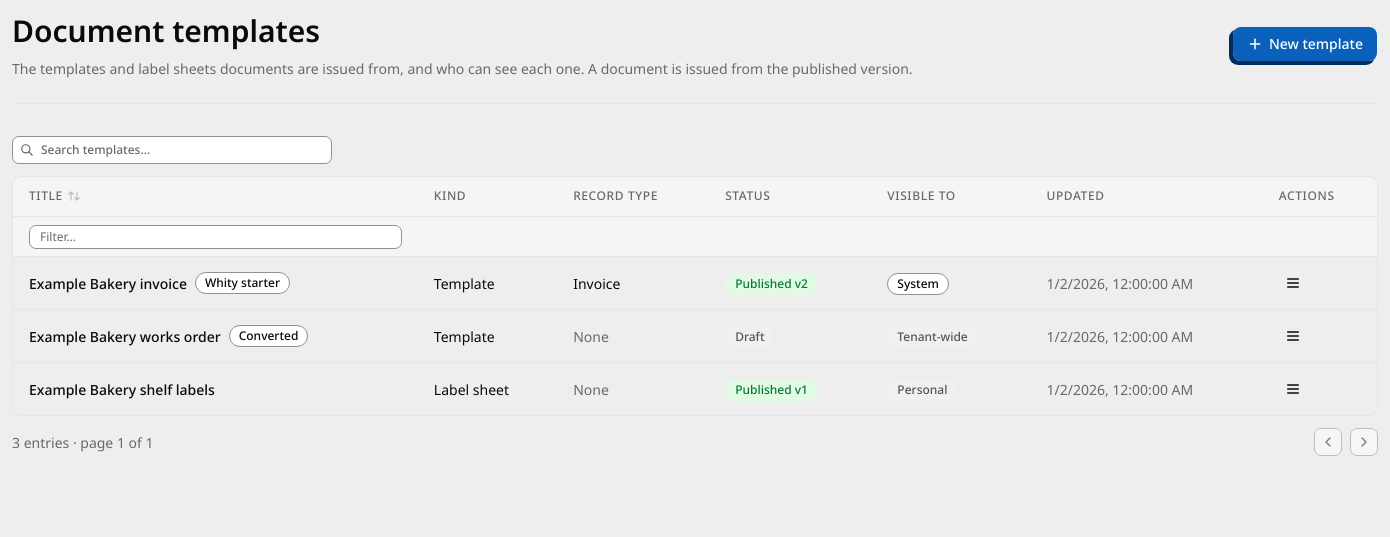
Test: who can see it › is gated on documents:publish, while copying stays available to a writer
Check: the link "Example Bakery works order" is shown, box [29,326,221,346]
Click the button named "Actions for Example Bakery works order": click(1293, 336) [1279,322,1307,350]
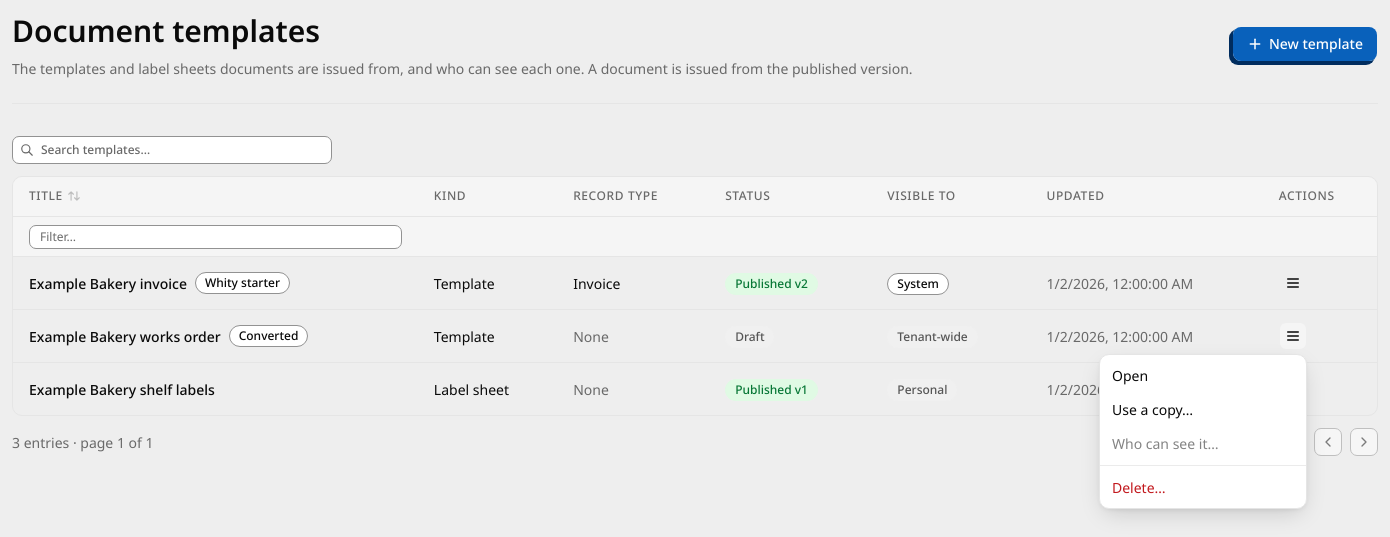
Check: the menu item "Use a copy…" is enabled, box [1112,400,1193,419]
